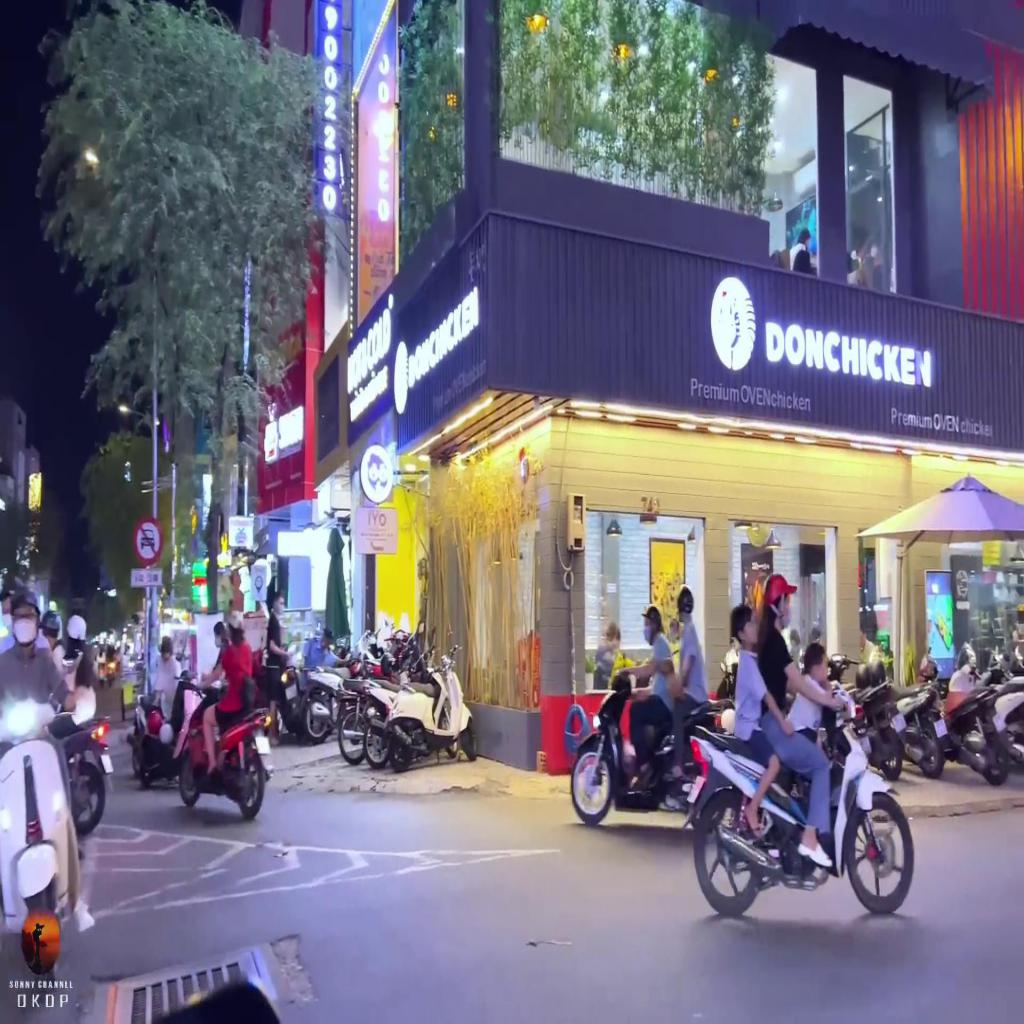cam_o_to: (133, 516, 163, 564)
khac: (130, 569, 162, 588)
